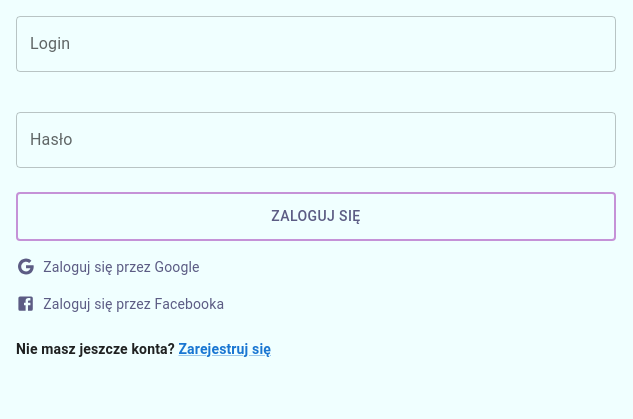
LoginForm component in Home page › form validation should check if fileds are empty or incorrect
Click the button "Zaloguj się" at (316,216), box [16,192,616,240]
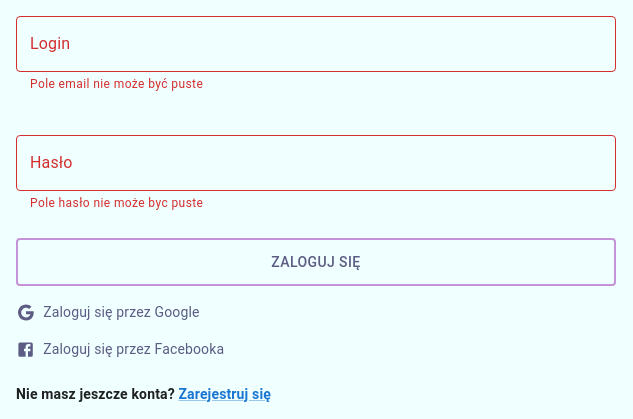
expect the text "Pole email nie może być puste" is shown: met, box [30,77,203,91]
